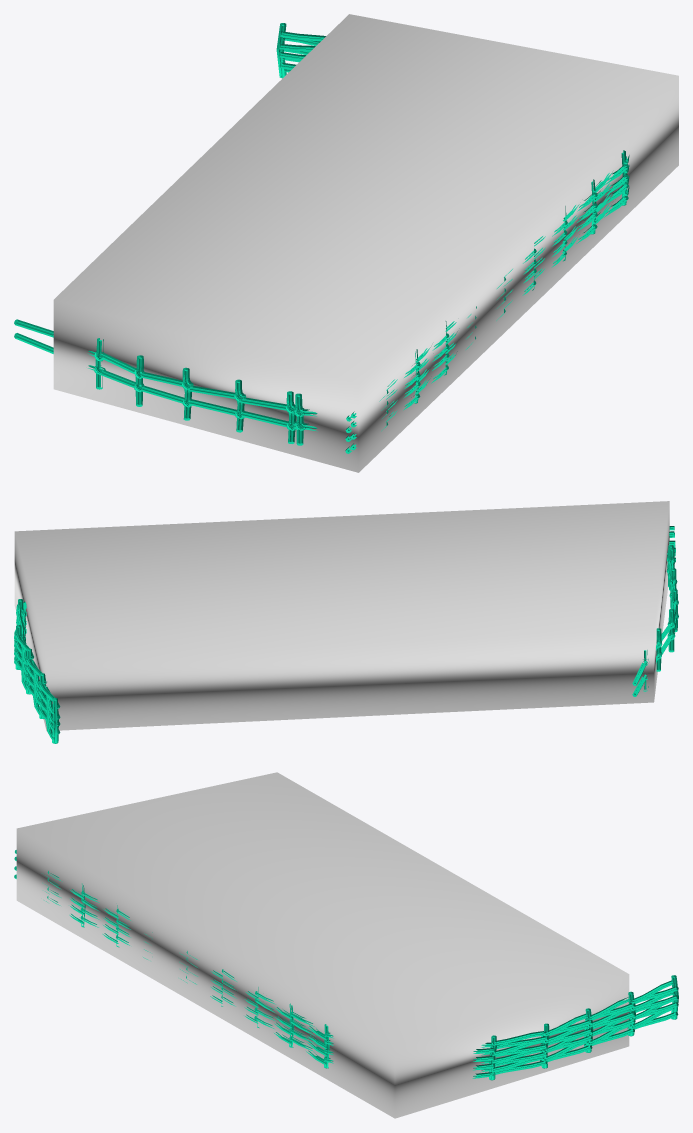
The model's file is Cattle.gltf.
3 renders of one model, top to bottom at view 1: azimuth 30°, elevation 25°; view 2: azimuth 150°, elevation 25°; view 3: azimuth 270°, elevation 25°, orthographic. The views are drawn at different scales.
Visible parts, largest first — view 1: Box, Outline.005; view 2: Box, Outline.005; view 3: Box, Outline.005.
Boxes of the visible parts, x1,y1,x2,y2 form: Box: [53, 14, 678, 472]; Outline.005: [14, 23, 629, 453]; Box: [14, 501, 669, 730]; Outline.005: [14, 526, 678, 743]; Box: [16, 772, 629, 1118]; Outline.005: [14, 850, 678, 1080].
Bounding box in the file's own units: 13.58 × 1.64 × 13.73.
